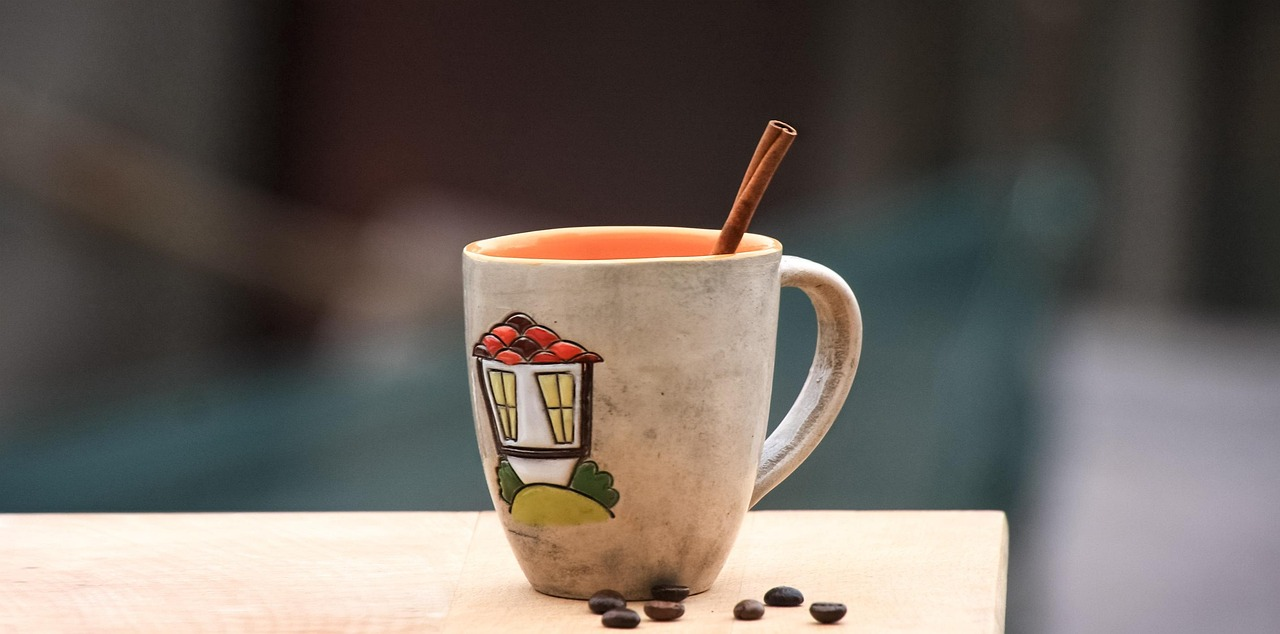mug: (443, 147, 918, 634)
